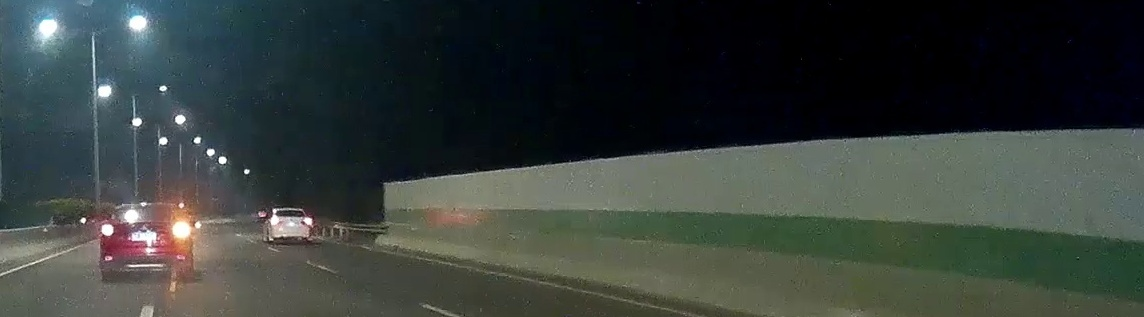L_light: (102, 224, 115, 236), (270, 218, 280, 223)
R_light: (174, 226, 189, 236), (140, 207, 155, 212), (303, 218, 312, 224)
T_light: (287, 210, 295, 213)
night-no: (267, 207, 314, 243)
night-right: (101, 203, 191, 278)
